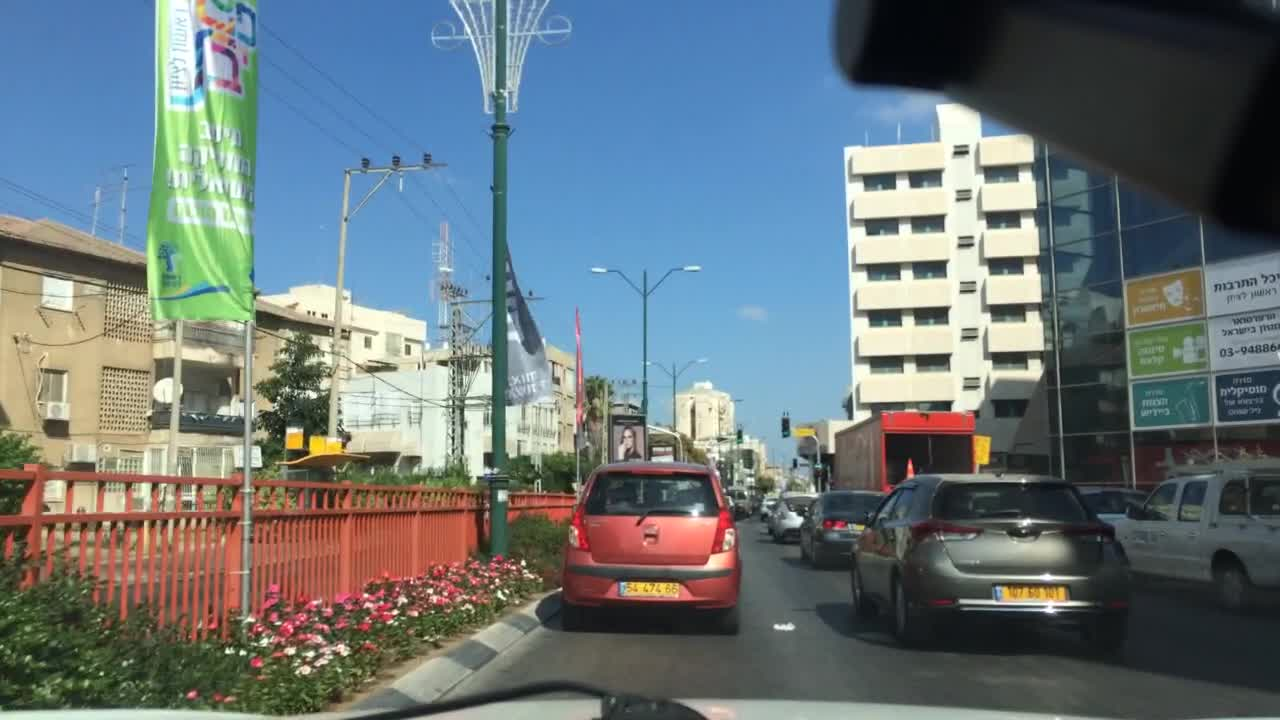car: (848, 469, 1135, 647), (560, 461, 741, 635), (794, 486, 889, 572), (1078, 481, 1156, 535), (768, 489, 818, 546), (671, 486, 736, 524), (727, 484, 756, 516), (758, 491, 778, 523)
traffic light: (779, 412, 791, 441)
truck: (1110, 465, 1277, 619), (831, 409, 978, 493)
